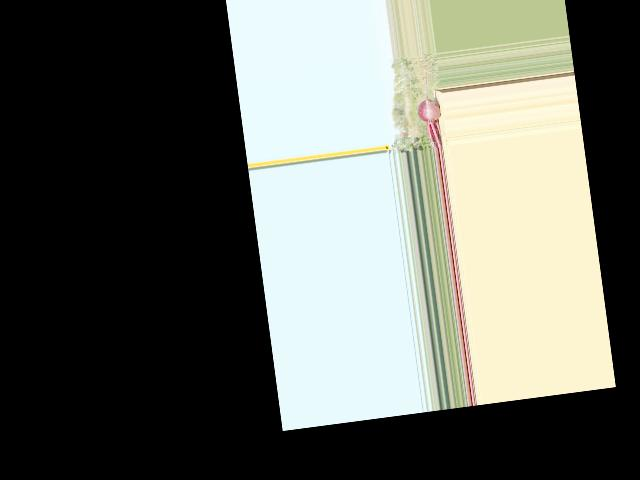beet: (411, 56, 445, 151)
